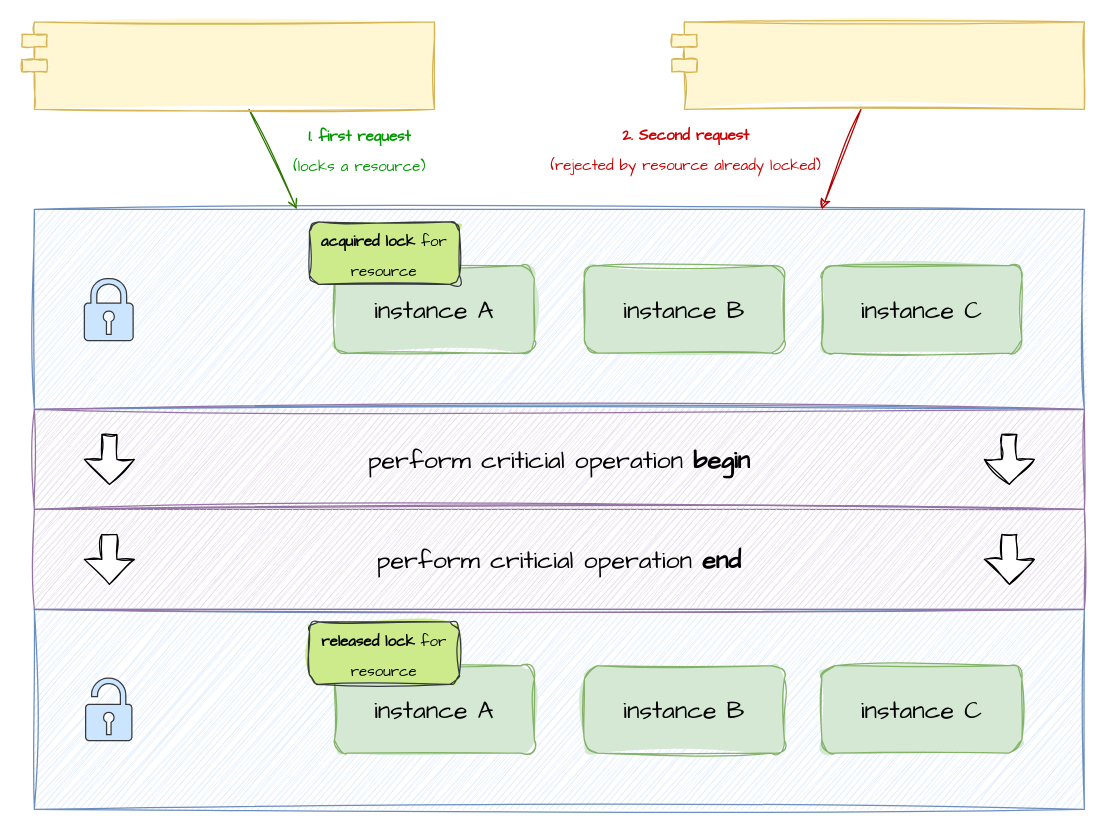
Image size: 1106x831. Some labels were removed from this diagram. Here are the shapes that lost their labels. From the top down, the box of each, then its label:
(21, 21, 434, 109): client A
(671, 21, 1084, 109): client B
